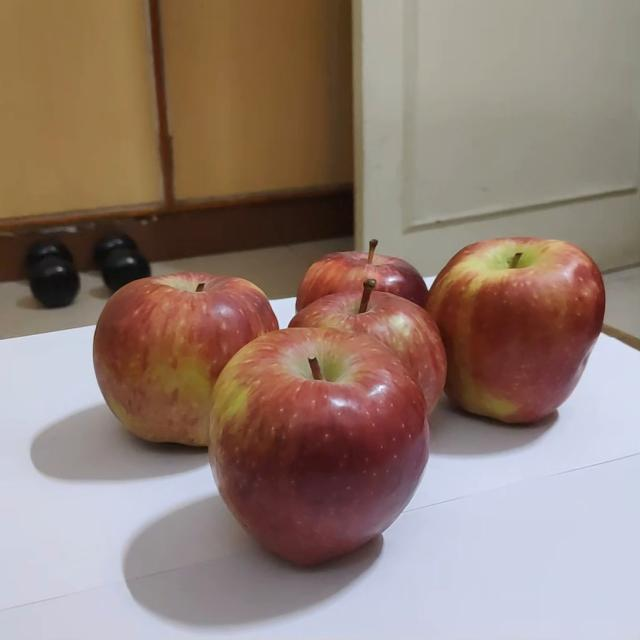apple: (204, 324, 437, 571), (88, 261, 282, 448), (423, 235, 610, 429), (286, 275, 453, 442), (292, 238, 434, 374)
